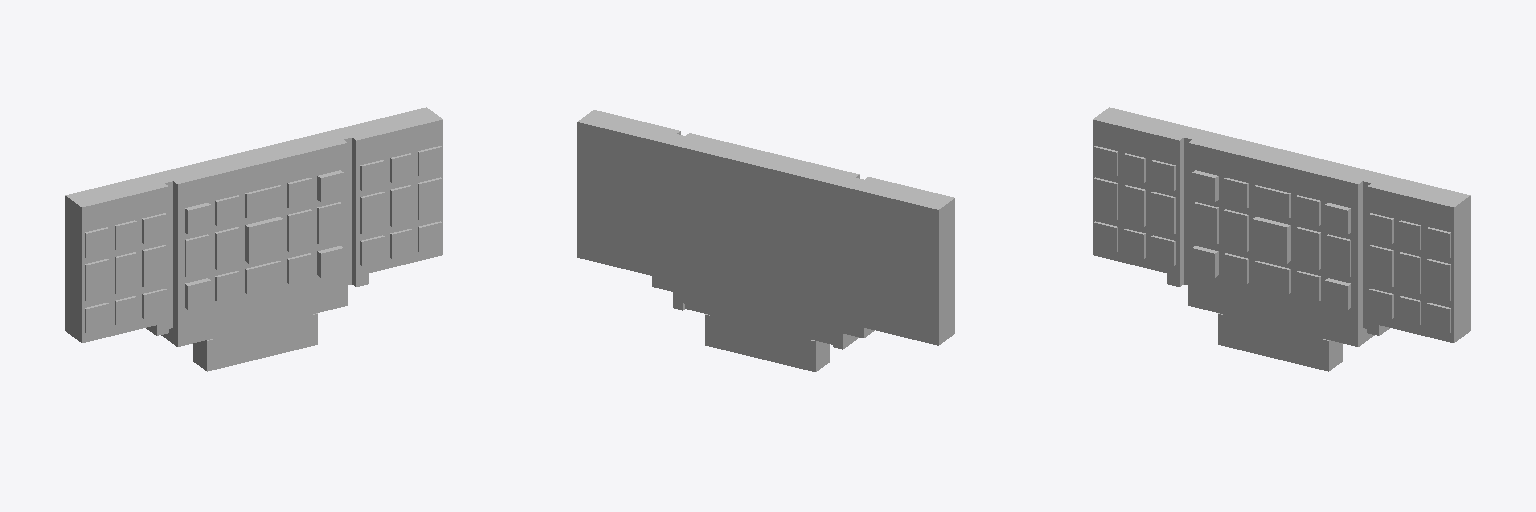
Rendered from baps-better.obj.
3 views of the same model, side by side, from view 1: azimuth 30°, elevation 25°; view 2: azimuth 150°, elevation 25°; view 3: azimuth 330°, elevation 25° (orthographic).
Parts seen in each view (by area): view 1: main-ceiling_Bapsextended.003, gym-ceiling_Bapsextended.002, girls-dining-ceiling_Bapsextended.001, stage-ceiling_Bapsextended.054, back-wall_Bapsextended.039, girls-dining-side-wall_Bapsextended.038, back-wall.001_Bapsextended.080, ceiling-block-001_Bapsextended, ceiling-block-029_Bapsextended.032, ceiling-block-028_Bapsextended.031, ceiling-block-022_Bapsextended.025, ceiling-block-021_Bapsextended.024 (+28 smaller); view 2: main-floor_Bapsextended.075, girls-dining-floor_Bapsextended.074, gym-floor_Bapsextended.076, stage-floor_Bapsextended.062, back-wall_Bapsextended.039, girls-dining-side-wall_Bapsextended.038, back-wall.001_Bapsextended.080, back-wall.002_Bapsextended.081; view 3: main-ceiling_Bapsextended.003, girls-dining-ceiling_Bapsextended.001, gym-ceiling_Bapsextended.002, stage-ceiling_Bapsextended.054, back-wall_Bapsextended.039, gym-side-wall_Bapsextended.047, back-wall.001_Bapsextended.080, ceiling-block-001_Bapsextended, ceiling-block-029_Bapsextended.032, ceiling-block-028_Bapsextended.031, ceiling-block-021_Bapsextended.024, ceiling-block-020_Bapsextended.023 (+28 smaller).
Boxes of the visible parts, <box> form: main-ceiling_Bapsextended.003: <box>178,143,347,346</box>; gym-ceiling_Bapsextended.002: <box>356,120,442,286</box>; girls-dining-ceiling_Bapsextended.001: <box>82,186,168,342</box>; stage-ceiling_Bapsextended.054: <box>207,314,317,371</box>; back-wall_Bapsextended.039: <box>65,107,442,206</box>; girls-dining-side-wall_Bapsextended.038: <box>65,196,81,342</box>; back-wall.001_Bapsextended.080: <box>161,131,342,180</box>; ceiling-block-001_Bapsextended: <box>245,217,282,263</box>; ceiling-block-029_Bapsextended.032: <box>245,185,281,218</box>; ceiling-block-028_Bapsextended.031: <box>245,261,281,293</box>; ceiling-block-022_Bapsextended.025: <box>215,227,239,269</box>; ceiling-block-021_Bapsextended.024: <box>287,209,311,251</box>; main-floor_Bapsextended.075: <box>652,140,863,349</box>; girls-dining-floor_Bapsextended.074: <box>864,192,938,345</box>; gym-floor_Bapsextended.076: <box>577,122,651,275</box>; stage-floor_Bapsextended.062: <box>685,304,832,371</box>; back-wall_Bapsextended.039: <box>578,110,953,209</box>; girls-dining-side-wall_Bapsextended.038: <box>939,198,954,344</box>; back-wall.001_Bapsextended.080: <box>674,136,854,186</box>; back-wall.002_Bapsextended.081: <box>686,133,859,177</box>; main-ceiling_Bapsextended.003: <box>1188,143,1357,346</box>; girls-dining-ceiling_Bapsextended.001: <box>1093,120,1179,286</box>; gym-ceiling_Bapsextended.002: <box>1367,186,1453,342</box>; stage-ceiling_Bapsextended.054: <box>1218,314,1328,371</box>; back-wall_Bapsextended.039: <box>1093,107,1470,206</box>; gym-side-wall_Bapsextended.047: <box>1454,196,1470,342</box>; back-wall.001_Bapsextended.080: <box>1193,131,1374,180</box>; ceiling-block-001_Bapsextended: <box>1253,217,1290,263</box>; ceiling-block-029_Bapsextended.032: <box>1254,185,1290,218</box>; ceiling-block-028_Bapsextended.031: <box>1254,261,1290,293</box>; ceiling-block-021_Bapsextended.024: <box>1296,227,1320,269</box>; ceiling-block-020_Bapsextended.023: <box>1326,234,1350,276</box>.
Bounding box in the file's own units: 74.52 × 38.37 × 7.14.